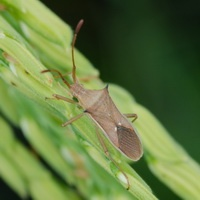insect: (41, 19, 142, 160)
